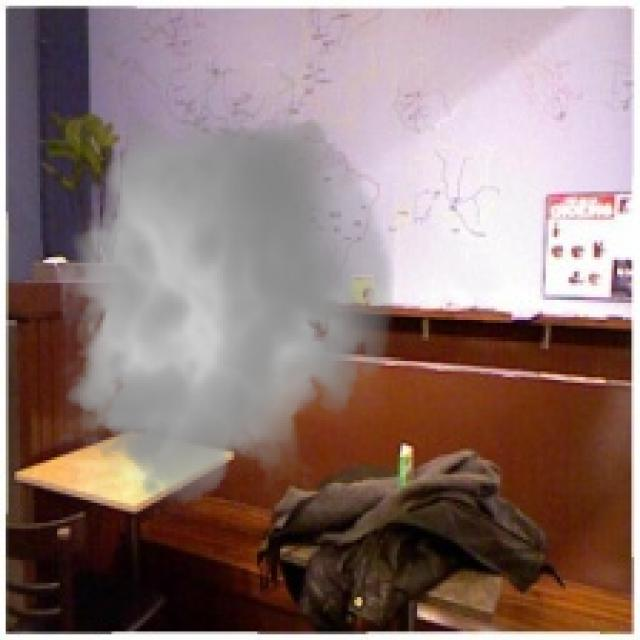smoke: (46, 97, 406, 520)
